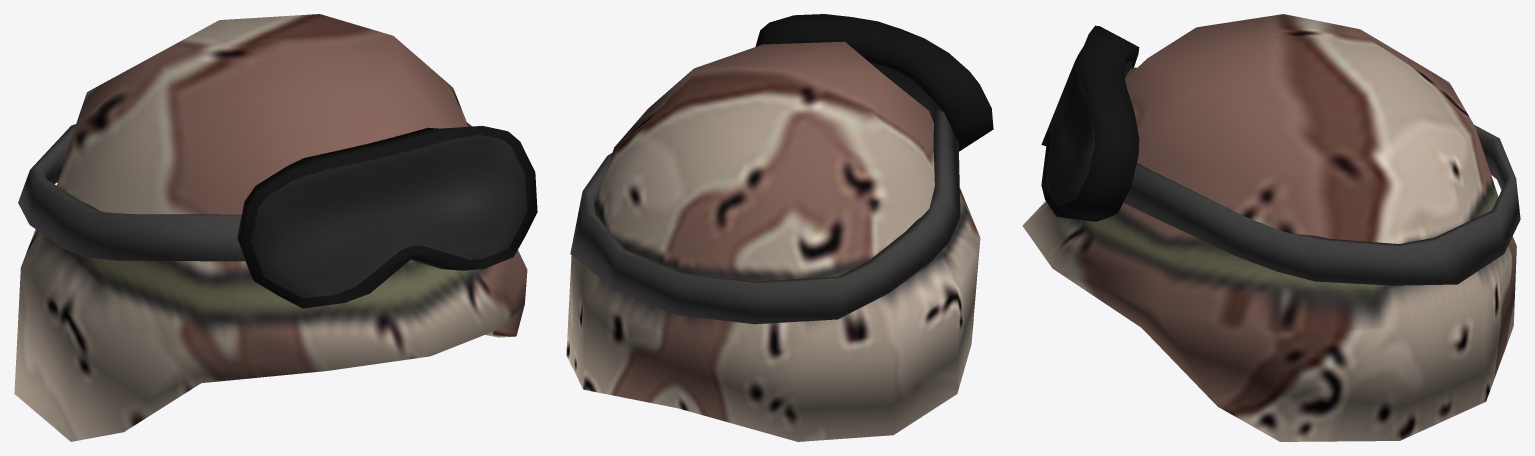
File: PoliceHelmetGogglesStrapless.fbx
The picture shows the model from 3 angles, left to right: view 1: azimuth 30°, elevation 25°; view 2: azimuth 150°, elevation 25°; view 3: azimuth 270°, elevation 25°; orthographic projection. The views are drawn at different scales.
Visible parts, largest first — view 1: Cube.003; view 2: Cube.003; view 3: Cube.003.
Part boxes in pixels (<box>): Cube.003: <box>14,14,537,441</box>; Cube.003: <box>566,14,993,441</box>; Cube.003: <box>1022,14,1520,441</box>.
Bounding box in the file's own units: 0.1313 × 0.1674 × 0.1909.
